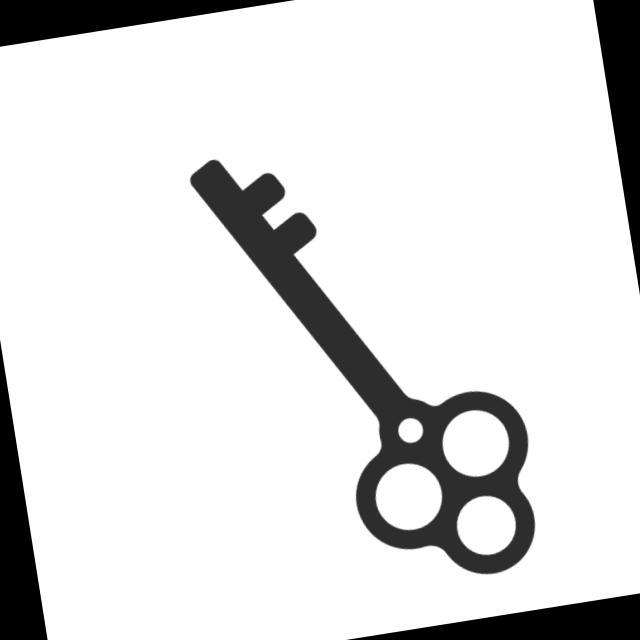key: (177, 115, 549, 617)
